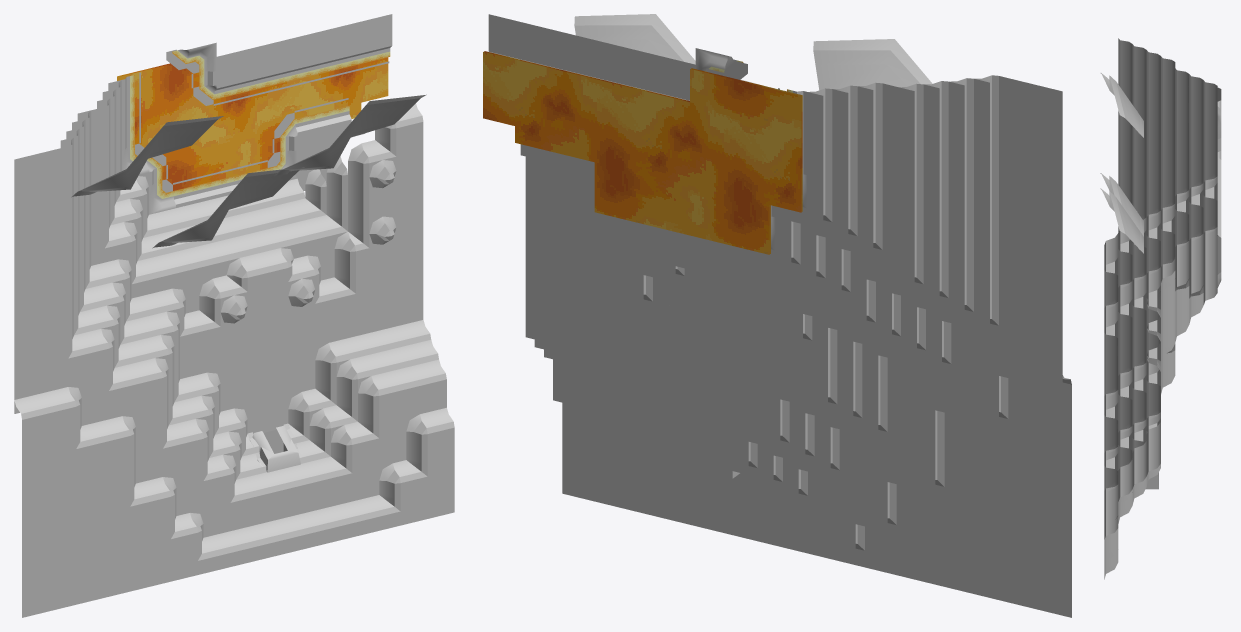
The model's file is Mount-Undara-4_00_01.obj.
3 renders of one model, left to right at view 1: azimuth 30°, elevation 25°; view 2: azimuth 150°, elevation 25°; view 3: azimuth 270°, elevation 25°, orthographic. The views are drawn at different scales.
Parts seen in each view (by area): view 1: map; view 2: map; view 3: map.
Part boxes in pixels (<box>): map: <box>14,14,454,617</box>; map: <box>483,14,1071,617</box>; map: <box>1100,38,1221,579</box>.
Size of the model in its own units: 32 by 33 by 8.9.
